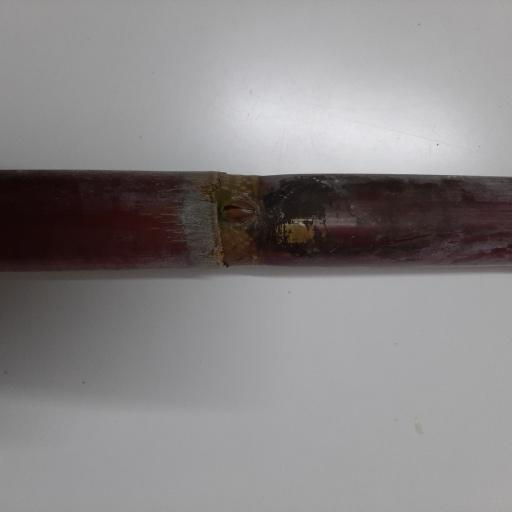Bud: (221, 198, 256, 222)
